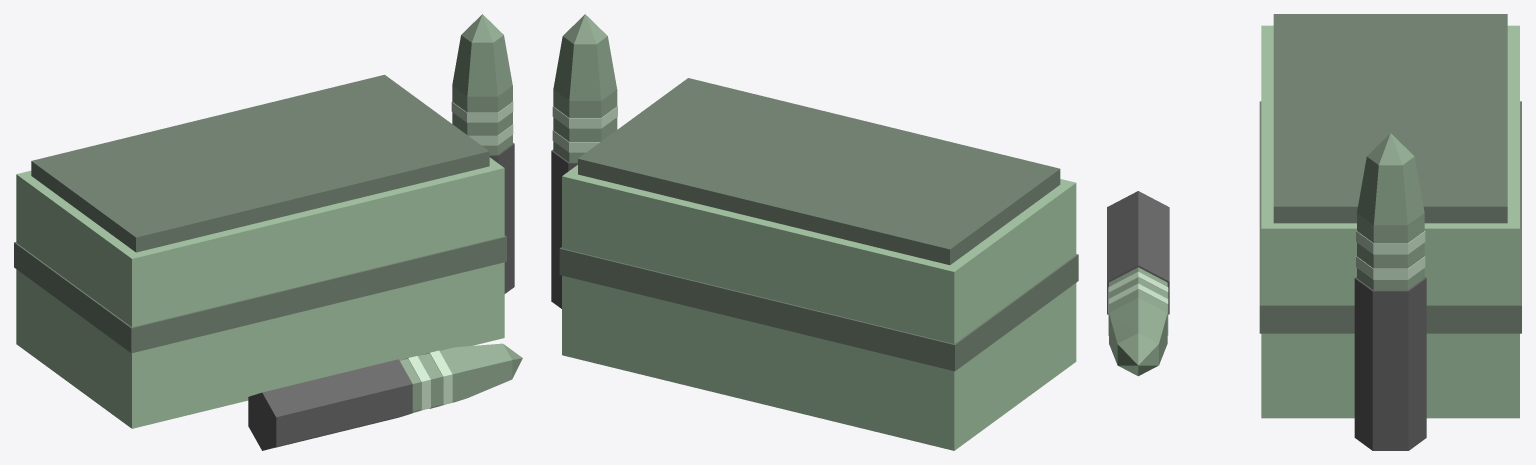
Rendered from ce_ammo2_rcl84_smk_c.obj.
3 renders of one model, left to right at view 1: azimuth 30°, elevation 25°; view 2: azimuth 150°, elevation 25°; view 3: azimuth 270°, elevation 25°, orthographic. The views are drawn at different scales.
Visible parts, largest first — view 1: ce_ammo2_rcl84_smk_c_0, ce_ammo2_rcl84_smk_c_1, ce_ammo2_rcl84_smk_c_2, ce_ammo2_rcl84_smk_c_11, ce_ammo2_rcl84_smk_c_9, ce_ammo2_rcl84_smk_c_17, ce_ammo2_rcl84_smk_c_3, ce_ammo2_rcl84_smk_c_8, ce_ammo2_rcl84_smk_c_16, ce_ammo2_rcl84_smk_c_6, ce_ammo2_rcl84_smk_c_10, ce_ammo2_rcl84_smk_c_7 (+4 smaller); view 2: ce_ammo2_rcl84_smk_c_0, ce_ammo2_rcl84_smk_c_1, ce_ammo2_rcl84_smk_c_2, ce_ammo2_rcl84_smk_c_9, ce_ammo2_rcl84_smk_c_3, ce_ammo2_rcl84_smk_c_8, ce_ammo2_rcl84_smk_c_6, ce_ammo2_rcl84_smk_c_10, ce_ammo2_rcl84_smk_c_7; view 3: ce_ammo2_rcl84_smk_c_1, ce_ammo2_rcl84_smk_c_0, ce_ammo2_rcl84_smk_c_3, ce_ammo2_rcl84_smk_c_2, ce_ammo2_rcl84_smk_c_11, ce_ammo2_rcl84_smk_c_9, ce_ammo2_rcl84_smk_c_17, ce_ammo2_rcl84_smk_c_18, ce_ammo2_rcl84_smk_c_8, ce_ammo2_rcl84_smk_c_6, ce_ammo2_rcl84_smk_c_10, ce_ammo2_rcl84_smk_c_7 (+4 smaller).
Boxes of the visible parts, box(x1,y1,x2,y2) form: ce_ammo2_rcl84_smk_c_0: box(16, 157, 504, 428); ce_ammo2_rcl84_smk_c_1: box(31, 74, 489, 252); ce_ammo2_rcl84_smk_c_2: box(14, 235, 506, 353); ce_ammo2_rcl84_smk_c_11: box(248, 359, 412, 450); ce_ammo2_rcl84_smk_c_9: box(452, 35, 512, 96); ce_ammo2_rcl84_smk_c_17: box(455, 343, 512, 397); ce_ammo2_rcl84_smk_c_3: box(489, 143, 514, 293); ce_ammo2_rcl84_smk_c_8: box(452, 85, 512, 112); ce_ammo2_rcl84_smk_c_16: box(439, 347, 467, 403); ce_ammo2_rcl84_smk_c_6: box(452, 112, 512, 135); ce_ammo2_rcl84_smk_c_10: box(461, 14, 503, 42); ce_ammo2_rcl84_smk_c_7: box(451, 101, 513, 122); ce_ammo2_rcl84_smk_c_0: box(562, 165, 1076, 450); ce_ammo2_rcl84_smk_c_1: box(578, 78, 1060, 264); ce_ammo2_rcl84_smk_c_2: box(559, 247, 1078, 371); ce_ammo2_rcl84_smk_c_9: box(553, 36, 616, 100); ce_ammo2_rcl84_smk_c_3: box(551, 149, 577, 308); ce_ammo2_rcl84_smk_c_8: box(553, 89, 617, 117); ce_ammo2_rcl84_smk_c_6: box(553, 117, 617, 141); ce_ammo2_rcl84_smk_c_10: box(563, 14, 607, 44); ce_ammo2_rcl84_smk_c_7: box(552, 106, 617, 128); ce_ammo2_rcl84_smk_c_1: box(1273, 14, 1507, 223); ce_ammo2_rcl84_smk_c_0: box(1261, 25, 1519, 418); ce_ammo2_rcl84_smk_c_3: box(1354, 277, 1426, 450); ce_ammo2_rcl84_smk_c_2: box(1259, 101, 1521, 333); ce_ammo2_rcl84_smk_c_11: box(1107, 191, 1169, 314); ce_ammo2_rcl84_smk_c_9: box(1357, 156, 1424, 225); ce_ammo2_rcl84_smk_c_17: box(1109, 297, 1167, 364); ce_ammo2_rcl84_smk_c_18: box(1117, 333, 1158, 376); ce_ammo2_rcl84_smk_c_8: box(1357, 213, 1424, 243); ce_ammo2_rcl84_smk_c_6: box(1357, 242, 1424, 268); ce_ammo2_rcl84_smk_c_10: box(1367, 133, 1414, 165); ce_ammo2_rcl84_smk_c_7: box(1356, 230, 1425, 254).
Size of the model in its own units: 0.9087 by 0.546 by 0.6737.
